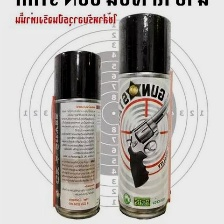aerosol_cans: (115, 11, 175, 221), (50, 49, 105, 221)
